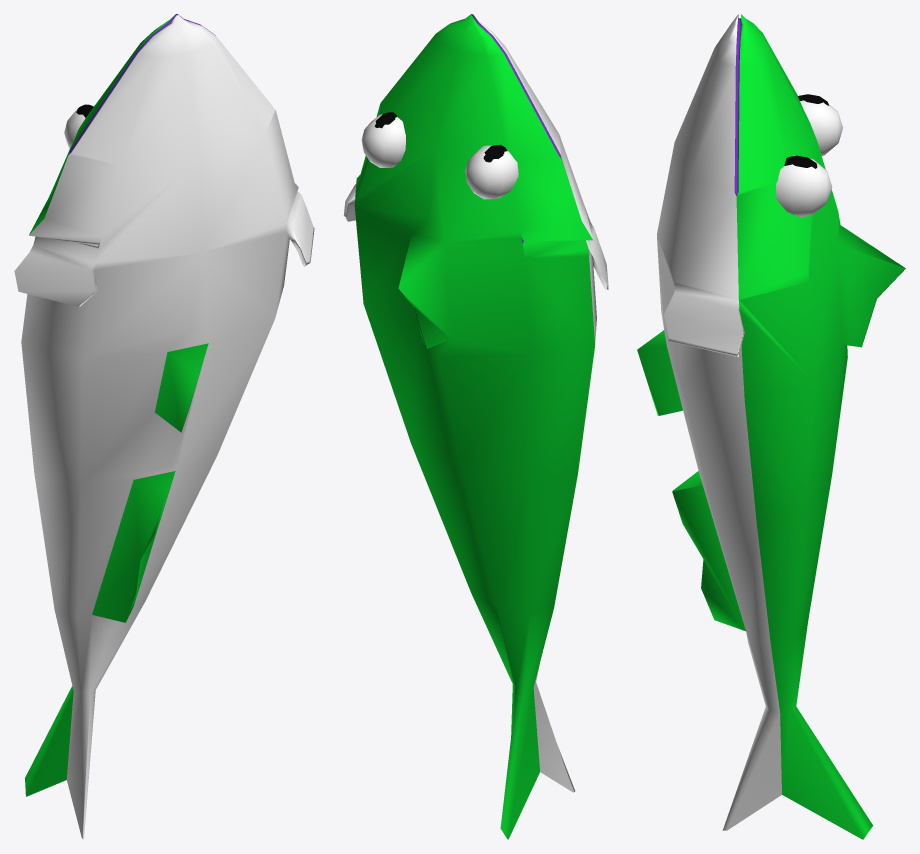
File: aSardinaMed.fbx
3 renders of one model, left to right at view 1: azimuth 30°, elevation 25°; view 2: azimuth 150°, elevation 25°; view 3: azimuth 270°, elevation 25°, orthographic. The views are drawn at different scales.
Visible parts, largest first — view 1: Cylinder004; view 2: Cylinder004, Sphere005, Sphere007; view 3: Cylinder004, Sphere007, Sphere005.
Boxes of the visible parts, x1=… form: Cylinder004: x1=14, y1=14, x2=314, y2=839; Cylinder004: x1=343, y1=14, x2=608, y2=839; Sphere005: x1=465, y1=145, x2=518, y2=199; Sphere007: x1=361, y1=114, x2=405, y2=167; Cylinder004: x1=637, y1=14, x2=905, y2=839; Sphere007: x1=776, y1=155, x2=831, y2=217; Sphere005: x1=800, y1=100, x2=842, y2=155.
Size of the model in its own units: 53.53 by 142 by 39.66.
